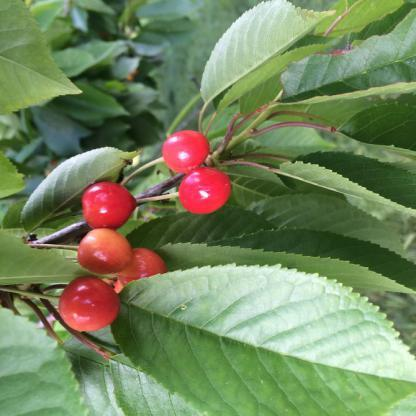Cherry leaf: (110, 257, 415, 415), (198, 0, 332, 118)
